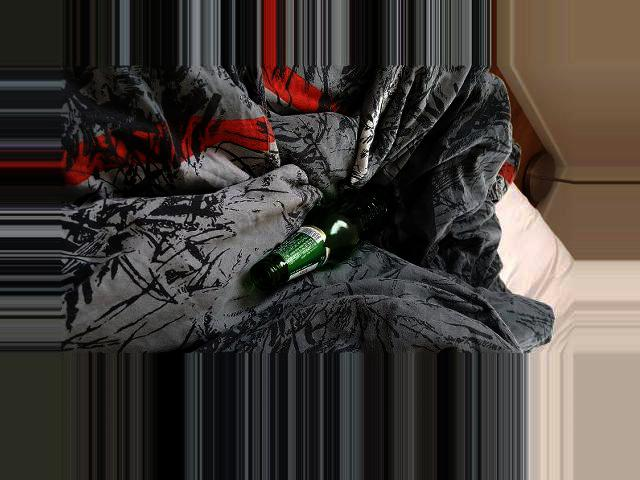beer: (248, 183, 395, 289)
